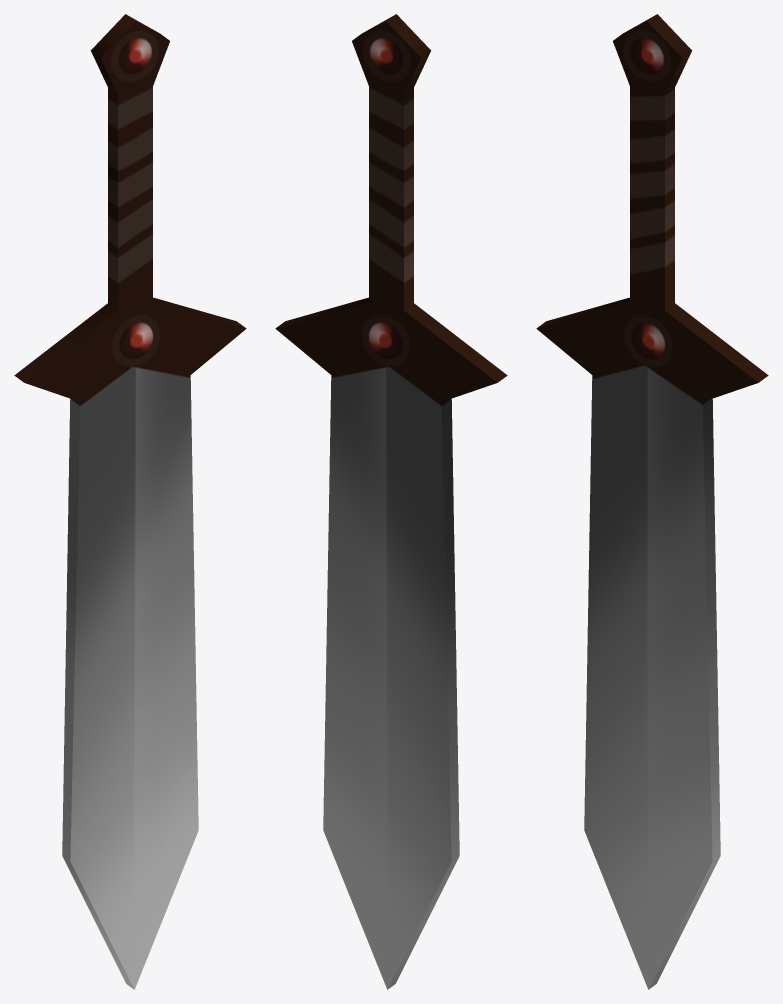
File: sword test.fbx
3 renders of one model, left to right at view 1: azimuth 30°, elevation 25°; view 2: azimuth 150°, elevation 25°; view 3: azimuth 330°, elevation 25°, orthographic.
Visible parts, largest first — view 1: Sword; view 2: Sword; view 3: Sword.
Part boxes in pixels (x1,y1,x2,y2): Sword: [14, 14, 246, 989]; Sword: [275, 14, 507, 989]; Sword: [536, 14, 768, 989].
Size of the model in its own units: 22.62 by 94.2 by 1.77.
Materials: 1 (1 with a texture image).
